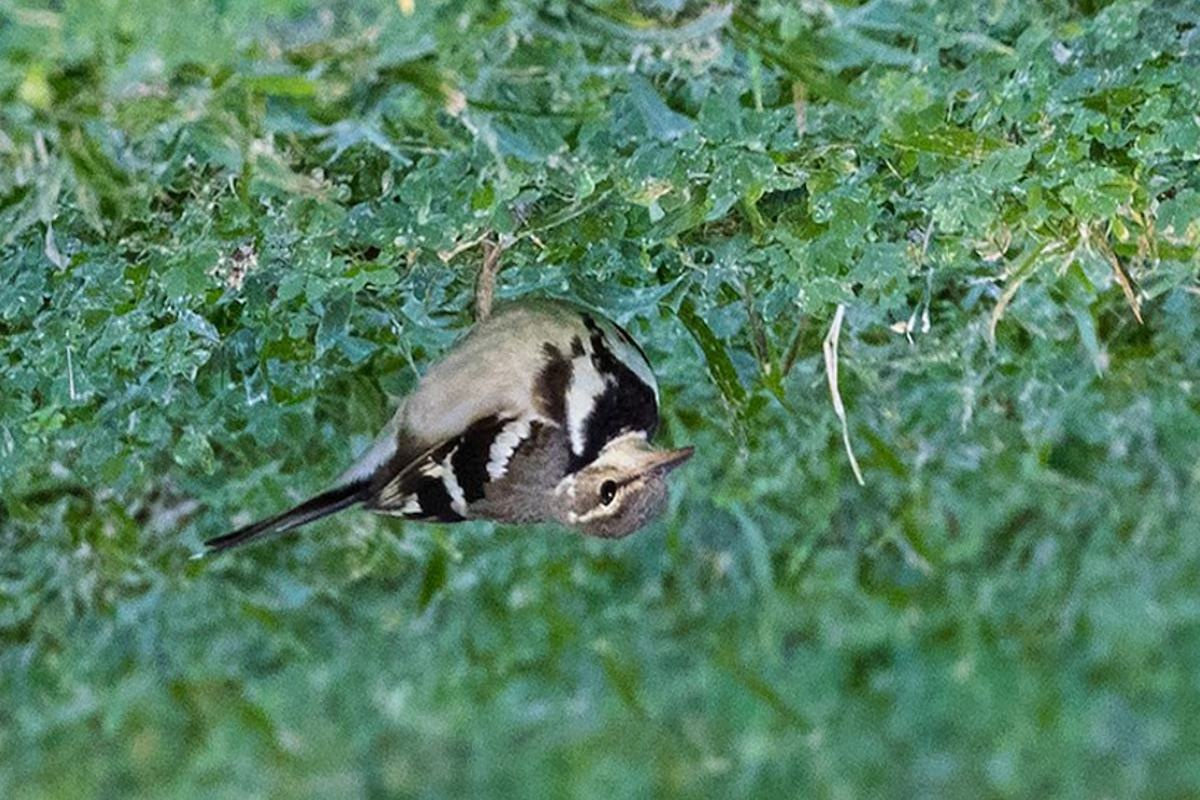wagtail: (196, 246, 734, 543)
